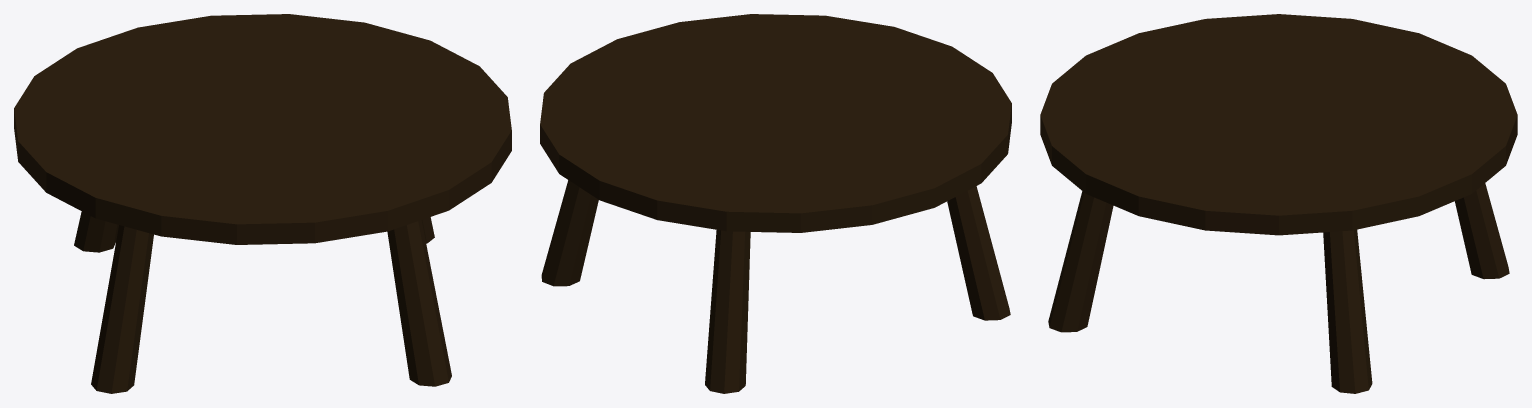
File: TableS1.glb
3 renders of one model, left to right at view 1: azimuth 30°, elevation 25°; view 2: azimuth 150°, elevation 25°; view 3: azimuth 270°, elevation 25°, orthographic. The views are drawn at different scales.
Visible parts, largest first — view 1: Cylinder; view 2: Cylinder; view 3: Cylinder.
Boxes of the visible parts, <box> form: Cylinder: <box>14,14,511,393</box>; Cylinder: <box>540,14,1011,393</box>; Cylinder: <box>1040,14,1517,393</box>.
Bounding box in the file's own units: 0.9 × 0.3801 × 0.9.
